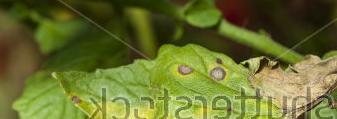Tomato leaf late blight: (43, 39, 337, 119)
